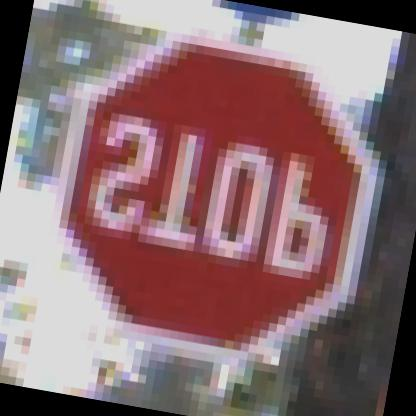stop: (5, 7, 414, 392)
